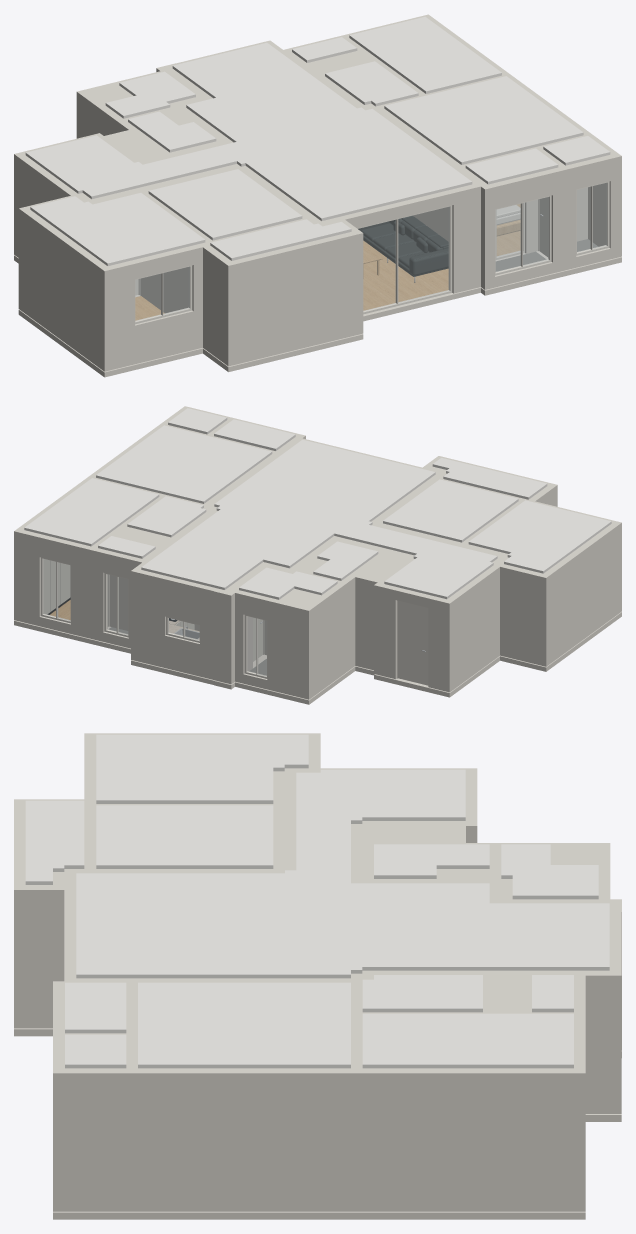
The model's file is acro112a-expanded.glb.
3 views of the same model, one above another, from view 1: azimuth 30°, elevation 25°; view 2: azimuth 150°, elevation 25°; view 3: azimuth 270°, elevation 25° (orthographic). The views are drawn at different scales.
Visible parts, largest first — view 1: Ceiling/02, Wall/layer-10/00, Wall/layer-01/00, Ceiling/09, Ceiling/03, Ceiling/07, Ceiling/04, sliding-16/glass-1, Wall/layer-00/00, Base/00, Wall/layer-03/01, Wall/layer-04/01 (+39 smaller); view 2: Ceiling/02, Wall/layer-10/00, Ceiling/09, Ceiling/03, Ceiling/07, Ceiling/04, Wall/layer-01/00, Wall/layer-00/01, Base/00, Wall/layer-01/05, Wall/layer-03/00, Wall/layer-04/00 (+39 smaller); view 3: Ceiling/02, Wall/layer-10/00, Wall/layer-01/03, Ceiling/09, Wall/layer-03/04, Wall/layer-04/04, Ceiling/03, Ceiling/07, Ceiling/04, Wall/layer-00/01, Base/00, Ceiling/05 (+20 smaller).
Boxes of the visible parts, x1,y1,x2,y2 form: Ceiling/02: (25,42,472,220); Wall/layer-10/00: (14,14,621,281); Wall/layer-01/00: (14,218,363,360); Ceiling/09: (384,76,583,164); Ceiling/03: (30,193,205,265); Ceiling/07: (349,16,501,93); Ceiling/04: (148,169,302,240); sliding-16/glass-1: (398,207,449,302); Wall/layer-00/00: (14,244,363,371); Base/00: (14,251,621,377); Wall/layer-03/01: (163,268,363,327); Wall/layer-04/01: (183,257,363,307); Ceiling/02: (141,439,497,599); Wall/layer-10/00: (14,406,621,620); Ceiling/09: (96,425,272,503); Ceiling/03: (468,500,611,573); Ceiling/07: (24,478,159,546); Ceiling/04: (383,479,518,542); Wall/layer-01/00: (443,579,621,682); Wall/layer-00/01: (14,610,380,699); Base/00: (14,612,621,704); Wall/layer-01/05: (109,594,252,674); Wall/layer-03/00: (443,560,621,658); Wall/layer-04/00: (443,544,621,640); Ceiling/02: (76,769,609,978); Wall/layer-10/00: (14,733,621,1088); Wall/layer-01/03: (53,1161,585,1196); Ceiling/09: (138,982,350,1068); Wall/layer-03/04: (53,1131,585,1158); Wall/layer-04/04: (53,1106,585,1131); Ceiling/03: (96,734,308,803); Ceiling/07: (362,1013,573,1068); Ceiling/04: (96,805,273,868); Wall/layer-00/01: (53,1036,621,1211); Base/00: (14,1028,621,1219); Ceiling/05: (25,800,84,884).
Size of the model in its own units: 13.7 by 2.82 by 10.35.
27 materials, 6 textured.
